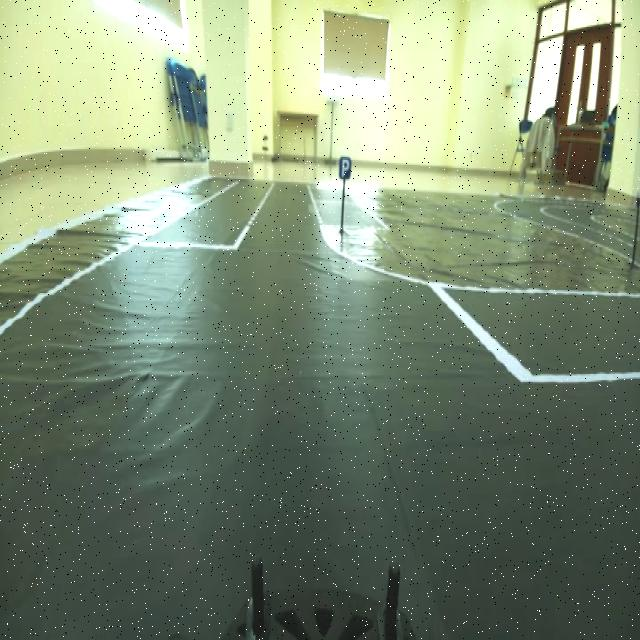parking: (335, 152, 357, 190)
